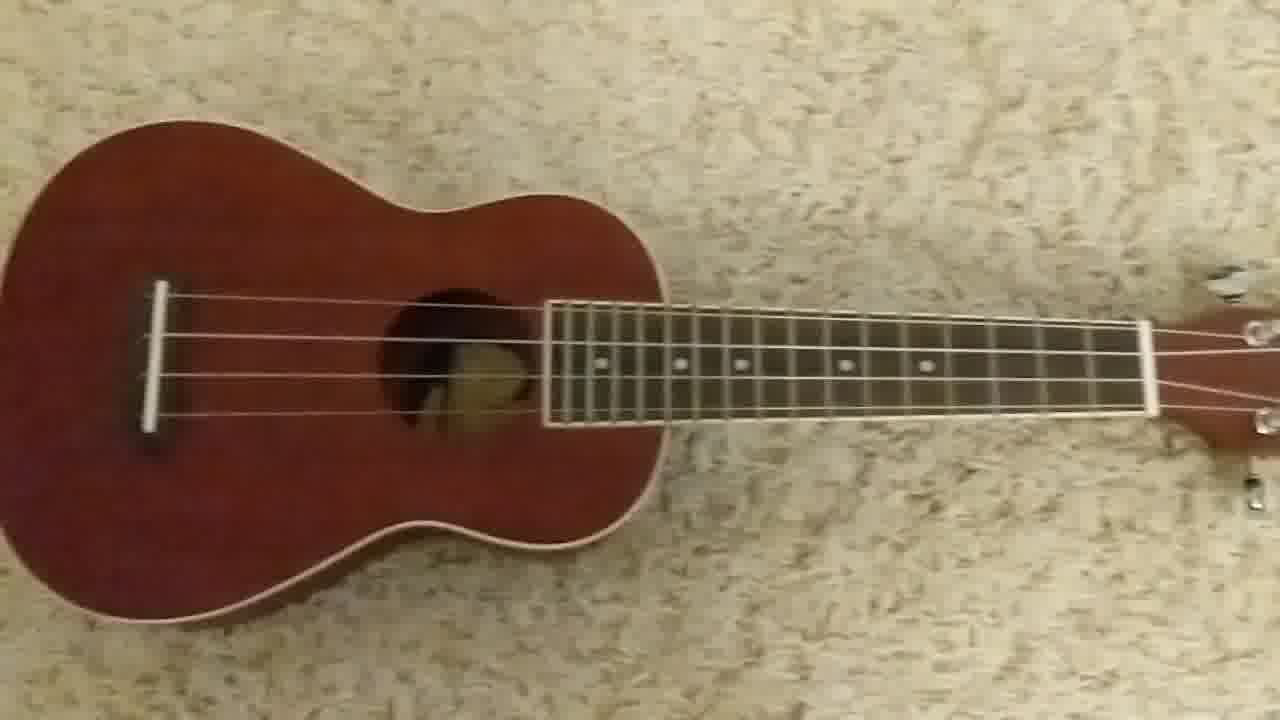Body: (1, 118, 676, 626)
Bridge: (131, 269, 184, 445)
Headstock: (1157, 255, 1280, 517)
